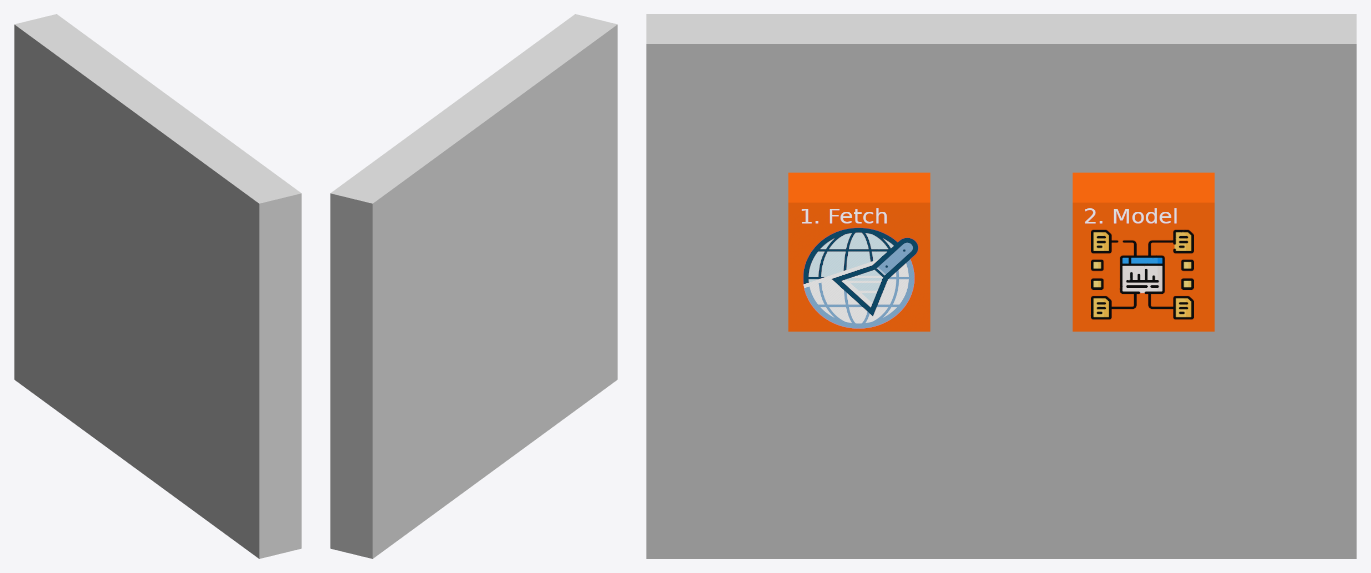
Rendered from animation1_emission.glb.
3 renders of one model, left to right at view 1: azimuth 30°, elevation 25°; view 2: azimuth 150°, elevation 25°; view 3: azimuth 270°, elevation 25°, orthographic. The views are drawn at different scales.
Visible parts, largest first — view 1: Cube.015, Cube.012, Cube.014, Cube.013, Cube.018, Cube.016, Cube.017, Cube.019, Cube.009, Cube, Cube.006, Cube.007 (+8 smaller); view 2: Cube.016, Cube.009, Cube.011, Cube.010, Cube.018, Cube.015, Cube.017, Cube.019, Cube.014, Cube, Cube.007, Cube.008 (+8 smaller); view 3: Fetch_cube, Model_cube, Cube.015, Cube.016, Cube.017, Cube.018, Cube.019, Cube.001, Cube.007, Cube.009, Cube.014, Cube.010 (+8 smaller).
Boxes of the visible parts, x1,y1,x2,y2 form: Cube.015: (210, 157, 301, 292); Cube.012: (210, 434, 301, 558); Cube.014: (210, 257, 301, 381); Cube.013: (210, 346, 301, 469); Cube.018: (112, 85, 203, 220); Cube.016: (14, 14, 105, 148); Cube.017: (161, 121, 252, 256); Cube.019: (63, 50, 154, 184); Cube.009: (14, 113, 63, 237); Cube: (112, 363, 161, 486); Cube.006: (63, 149, 112, 273); Cube.007: (112, 185, 161, 309); Cube.016: (330, 157, 421, 292); Cube.009: (330, 257, 421, 381); Cube.011: (330, 434, 421, 558); Cube.010: (330, 346, 421, 469); Cube.018: (428, 85, 519, 220); Cube.015: (526, 14, 617, 148); Cube.017: (477, 50, 568, 184); Cube.019: (379, 121, 470, 256); Cube.014: (568, 113, 617, 237); Cube: (470, 363, 519, 486); Cube.007: (470, 185, 519, 309); Cube.008: (519, 149, 568, 273); Fetch_cube: (788, 172, 930, 331); Model_cube: (1072, 172, 1214, 331); Cube.015: (646, 14, 788, 172); Cube.016: (1214, 14, 1356, 172); Cube.017: (788, 14, 930, 172); Cube.018: (930, 14, 1072, 172); Cube.019: (1072, 14, 1214, 172); Cube.001: (930, 301, 1072, 430); Cube.007: (930, 172, 1072, 301); Cube.009: (1214, 172, 1356, 301); Cube.014: (646, 172, 788, 301); Cube.010: (1214, 301, 1356, 430).
Bounding box in the file's own units: 2 × 8 × 10.
23 materials, 2 textured.
